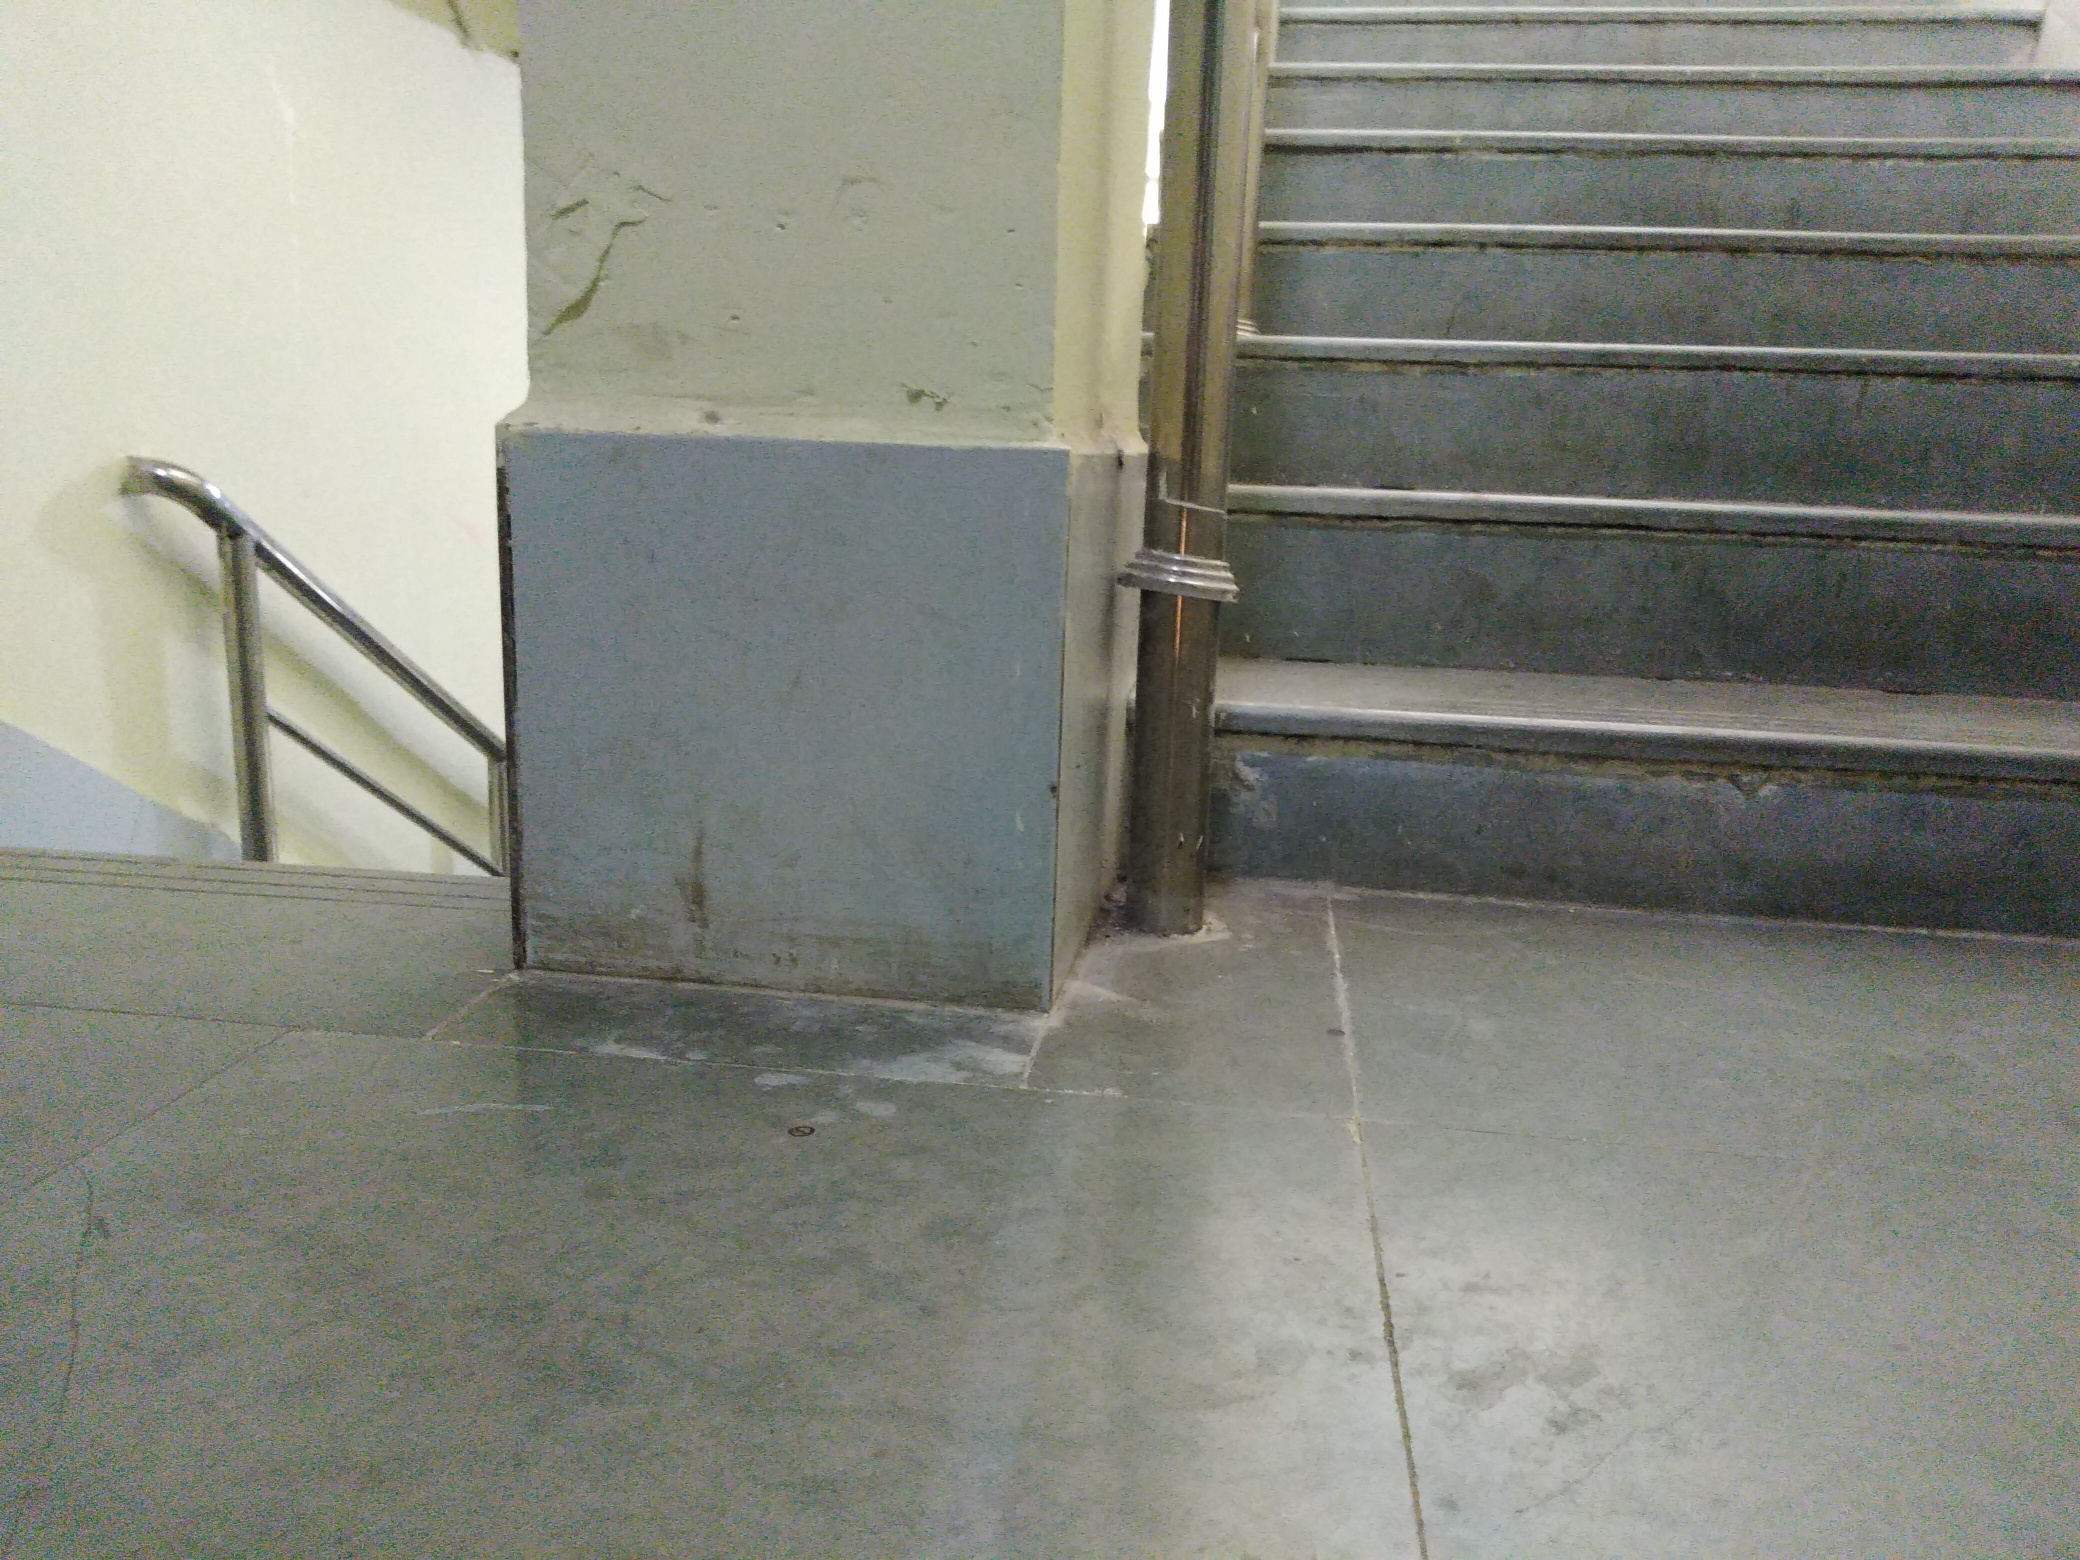stairs_up: (1201, 34, 2080, 918)
